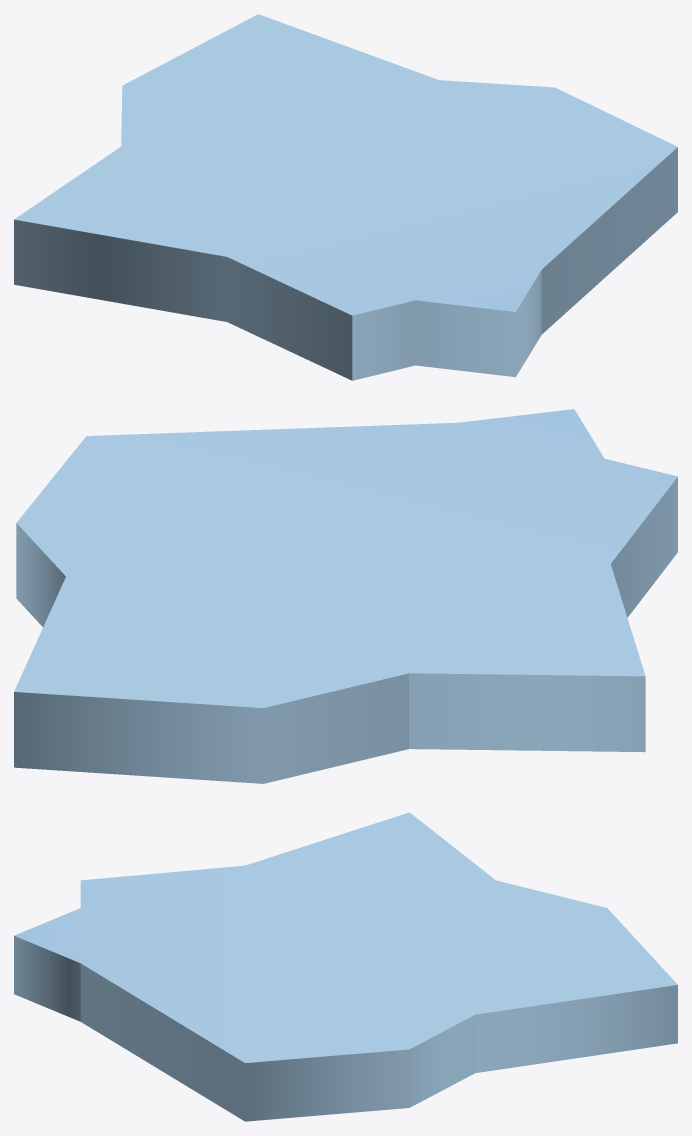
Rendered from Rock 41.FBX.
3 views of the same model, one above another, from view 1: azimuth 30°, elevation 25°; view 2: azimuth 150°, elevation 25°; view 3: azimuth 270°, elevation 25° (orthographic). The views are drawn at different scales.
Parts seen in each view (by area): view 1: Box001; view 2: Box001; view 3: Box001.
Part boxes in pixels (<box>): Box001: <box>14,14,677,380</box>; Box001: <box>14,409,677,783</box>; Box001: <box>14,812,677,1121</box>.
Bounding box in the file's own units: 44.7 × 4.86 × 50.01.
